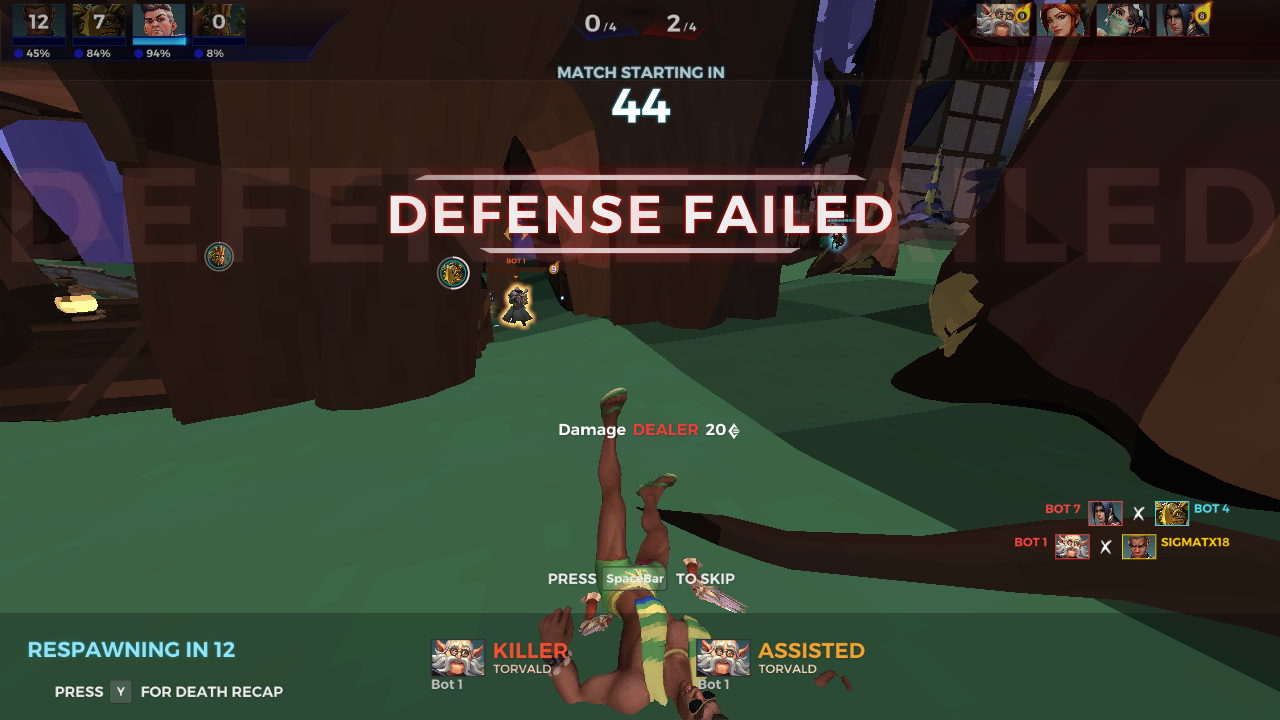model: (499, 282, 534, 329)
